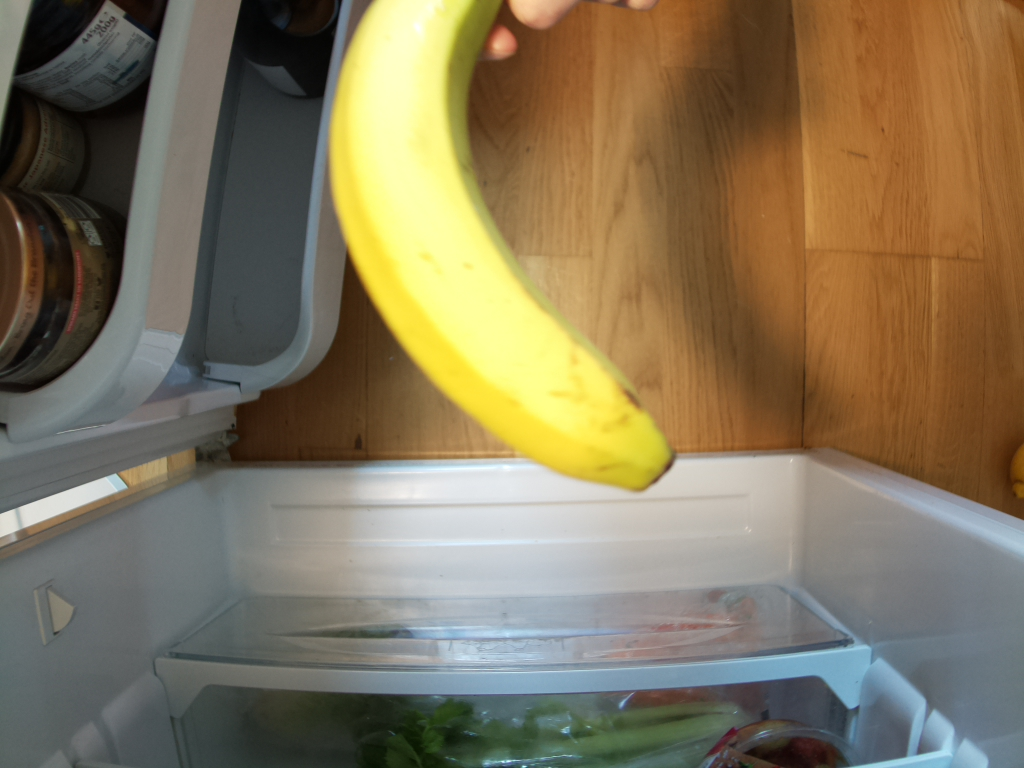banana-unripe: (331, 1, 680, 496)
